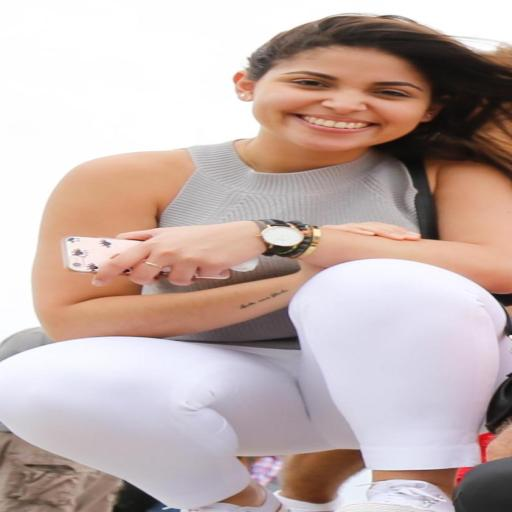person: (0, 15, 511, 511)
